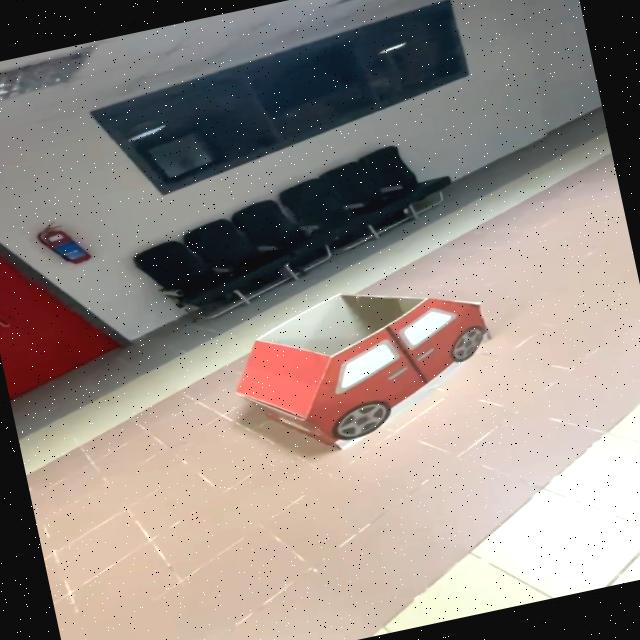red_car: (196, 246, 557, 484)
